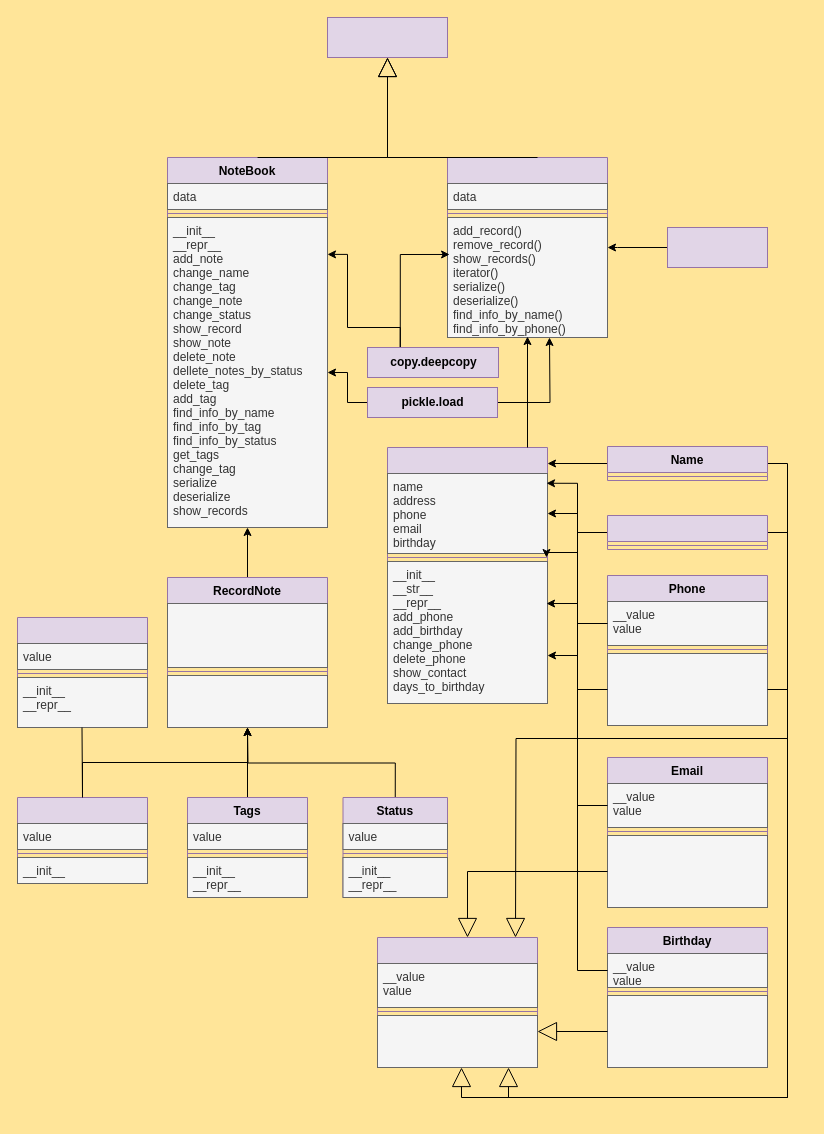
Image size: 824x1134. Some labels were removed from this diagram. The box of each missing label's shape, as (x1, y1, x2, y2) in pixels:
__init__ __repr__ __str__: (166, 674, 328, 728)
__init__ __repr__ __str__ check_birthday: (606, 994, 768, 1068)
__init__ __repr__ __str__ check_email: (606, 834, 768, 908)
__init__ __repr__ __str__ check_phone: (606, 652, 768, 726)
__init__() value(): setter value(): getter: (376, 1014, 538, 1068)
Address: (606, 514, 768, 550)
AddressBook: (446, 156, 608, 338)
Field: (376, 936, 538, 1068)
name note ctatus tags: (166, 602, 328, 668)
NoteName: (16, 616, 148, 728)
Notes: (16, 796, 148, 884)
Object: (666, 226, 768, 268)
Record: (386, 446, 548, 704)
UserDict: (326, 16, 448, 58)
